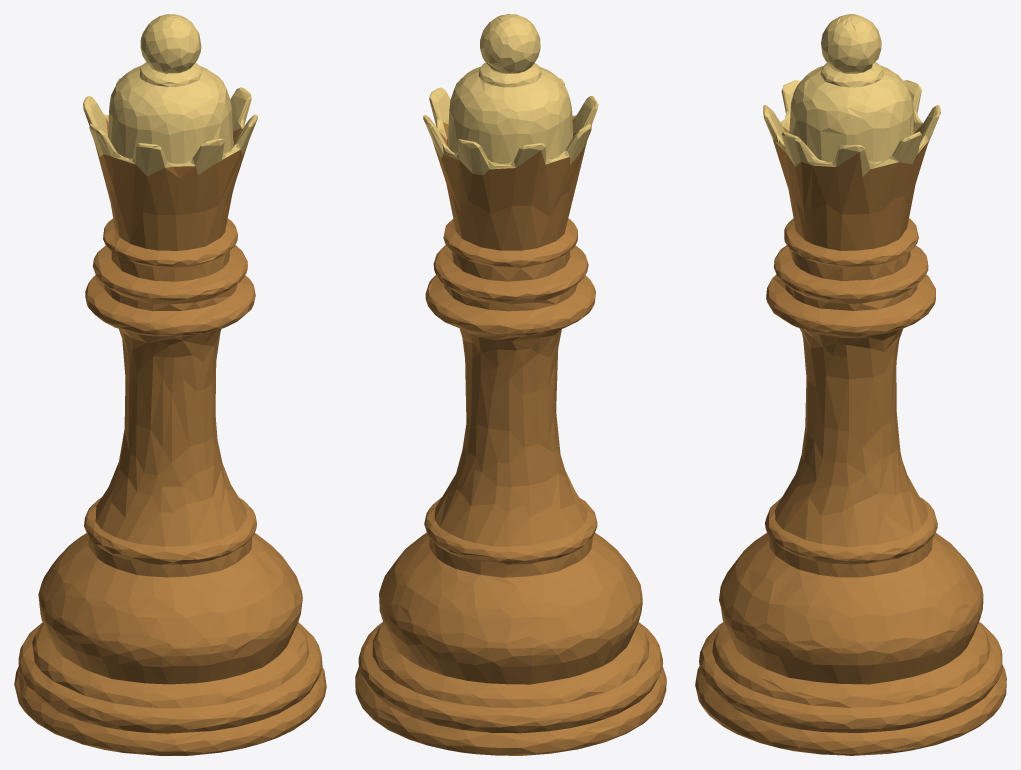
File: gercek3_q_w.glb
3 renders of one model, left to right at view 1: azimuth 30°, elevation 25°; view 2: azimuth 150°, elevation 25°; view 3: azimuth 270°, elevation 25°, orthographic.
Parts seen in each view (by area): view 1: q_w; view 2: q_w; view 3: q_w.
Boxes of the visible parts, x1,y1,x2,y2 form: q_w: (14,14,326,755); q_w: (355,14,666,755); q_w: (695,14,1006,755).
Bounding box in the file's own units: 0.3754 × 0.8993 × 0.3757.
